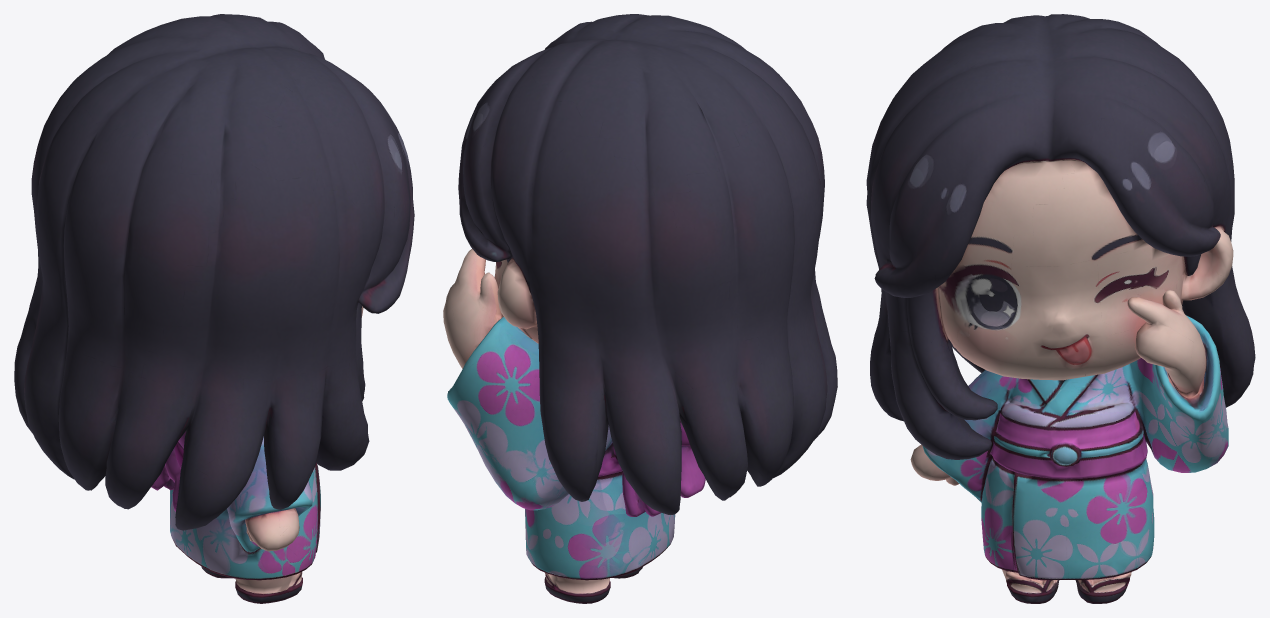
The model's file is ChibiPoo_cheeky.glb.
The picture shows the model from 3 angles, left to right: view 1: azimuth 30°, elevation 25°; view 2: azimuth 150°, elevation 25°; view 3: azimuth 270°, elevation 25°; orthographic projection. The views are drawn at different scales.
Visible parts, largest first — view 1: tripo_node_559560d6-8f66-49a7-b6be-ad9ab66e3a83; view 2: tripo_node_559560d6-8f66-49a7-b6be-ad9ab66e3a83; view 3: tripo_node_559560d6-8f66-49a7-b6be-ad9ab66e3a83.
Part boxes in pixels (box(x1,y1,x2,y2)): tripo_node_559560d6-8f66-49a7-b6be-ad9ab66e3a83: box(14, 14, 414, 603); tripo_node_559560d6-8f66-49a7-b6be-ad9ab66e3a83: box(443, 14, 837, 603); tripo_node_559560d6-8f66-49a7-b6be-ad9ab66e3a83: box(866, 14, 1255, 603).
Bounding box in the file's own units: 0.584 × 0.998 × 0.6543.
1 material, 1 textured.
